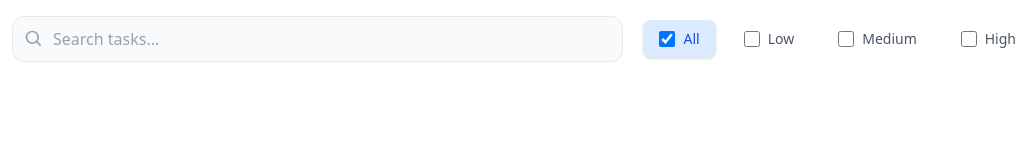
Test case: SearchFilter Component › switches active filter when a different filter is clicked
Expected: the checkbox labelled "All" is checked, [660,31,676,47]
Click the checkbox labelled "High": click(969, 39) [961,31,977,47]
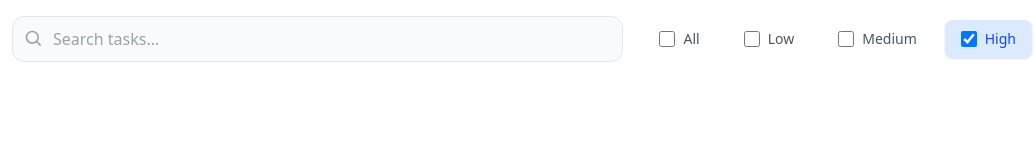
Result: the checkbox labelled "High" is checked at [961,31,977,47]
Result: the checkbox labelled "All" is not checked at [660,31,676,47]
